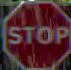Stop: (2, 0, 70, 69)
